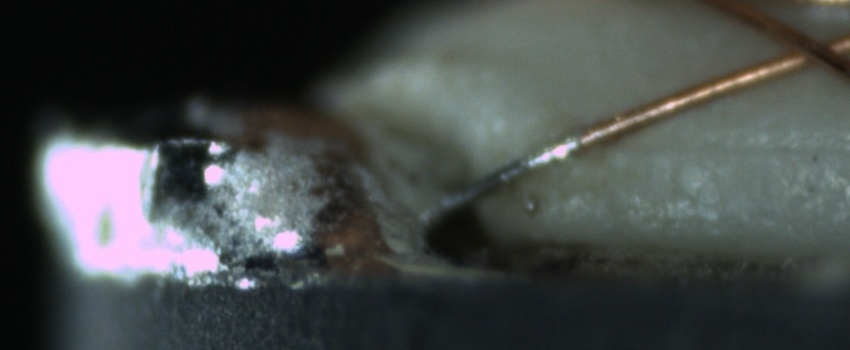CL: (761, 18, 847, 77)
DL: (617, 114, 850, 181)
TS: (426, 131, 584, 222)
